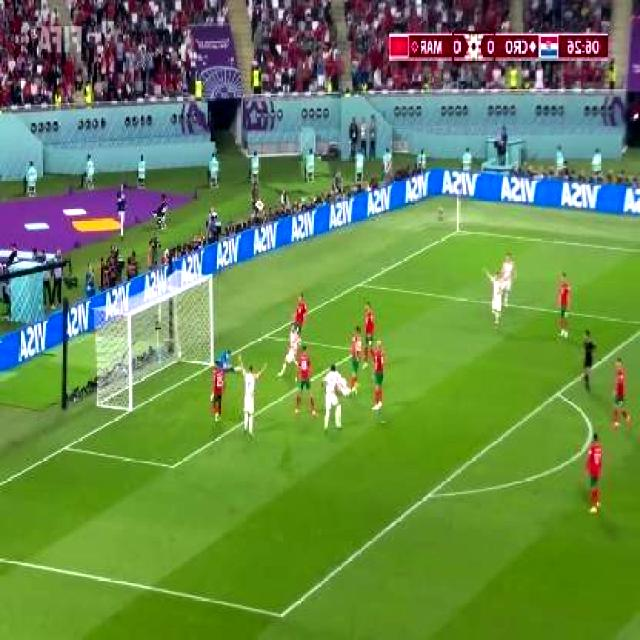bigarea_bottom_inner: (264, 591, 298, 638)
bigarea_top_outter: (352, 272, 370, 294)
bottom_arc_area_intersection: (418, 478, 442, 511)
corner: (451, 223, 471, 239)
smallarea_bottom_inner: (162, 449, 186, 483)
smallarea_bottom_outter: (55, 432, 77, 460)
smallarea_top_outter: (258, 325, 276, 346)
top_arc_area_intersection: (550, 382, 568, 403)
